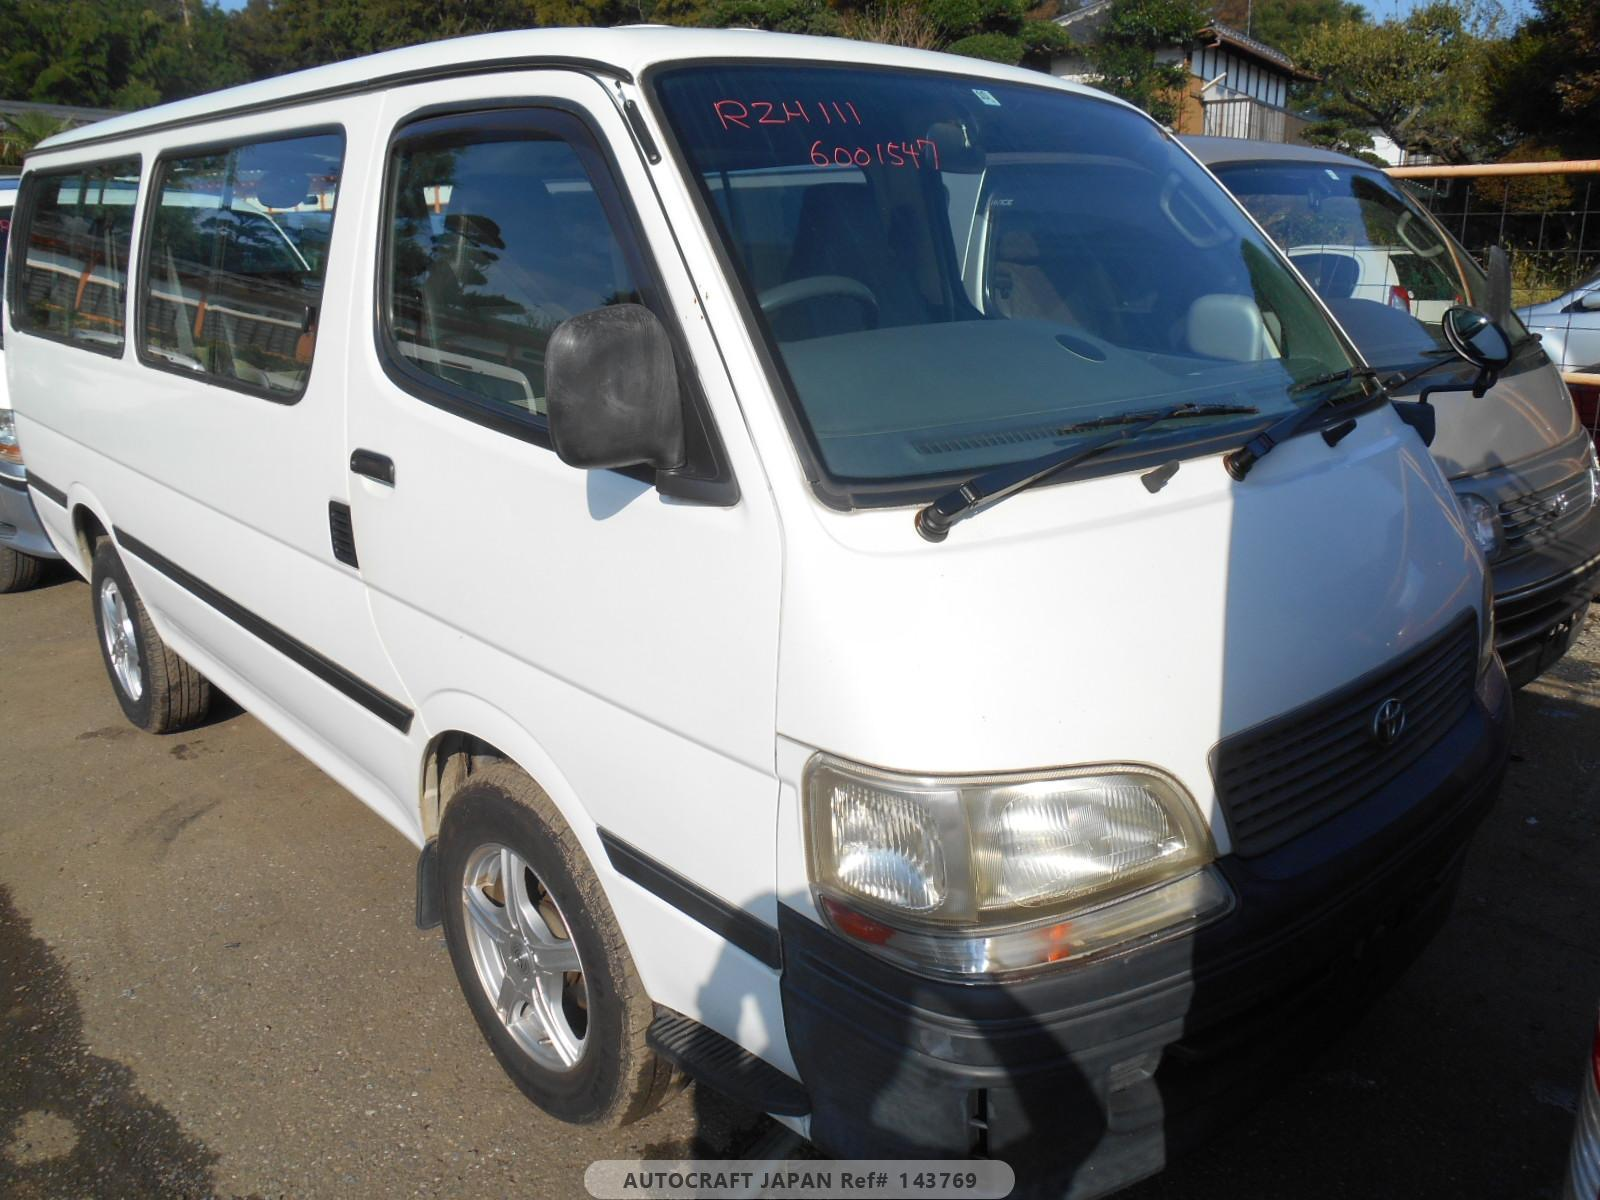van: (8, 50, 1537, 1040)
